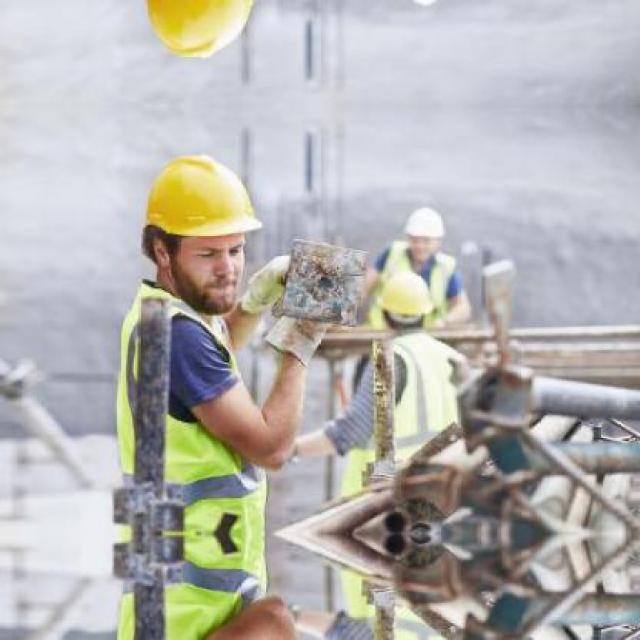Reflective-Jacket: (95, 282, 277, 543), (328, 327, 475, 503), (360, 246, 469, 338)
Safety-Helmet: (124, 146, 274, 255), (368, 265, 444, 332), (394, 197, 455, 250)
